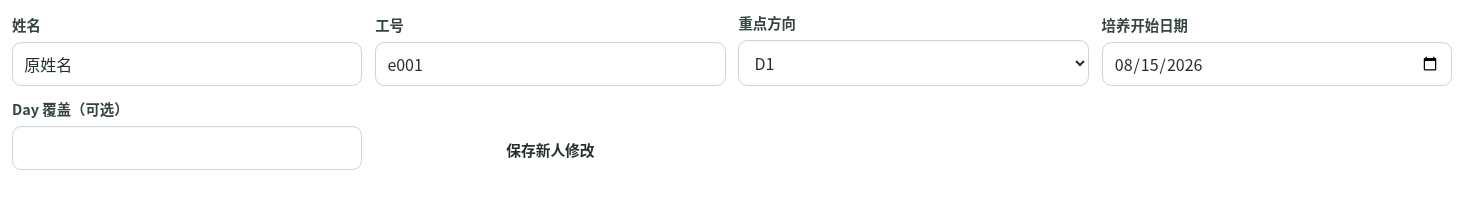
Test case: ADMIN forms › submits a trainee edit and retains the edited value with Chinese field feedback on failure
Replace the text in the field labelled "姓名" with "新姓名". click: (187, 64)
box: [12,42,362,86]
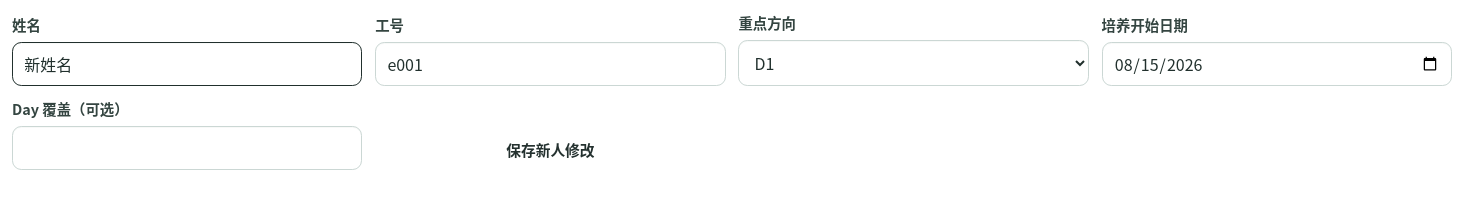
Click the button "保存新人修改". click: (550, 150)
box: [375,129,726,170]
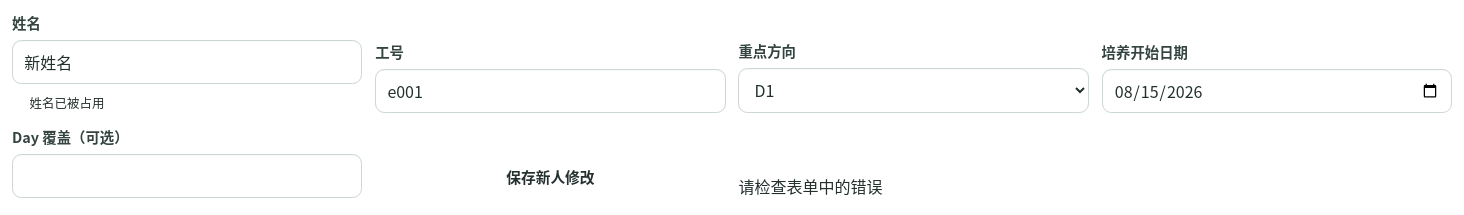
Result: the list item "姓名已被占用" is shown at [30,94,104,112]
Result: the text "请检查表单中的错误" is shown at [738,174,882,198]
